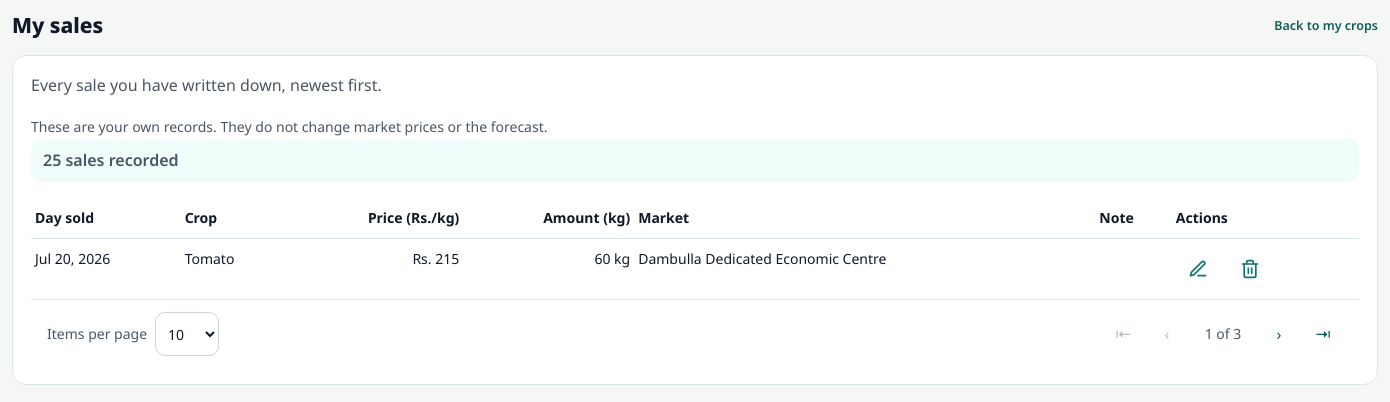
Test: the sales book — paging › never lets a slow FIRST page overwrite the second one the farmer already asked for
expect the text "Tomato" is shown: met, box [181,239,284,299]
Click the button named "Next page". click: (1279, 334)
box: [1259,312,1299,356]
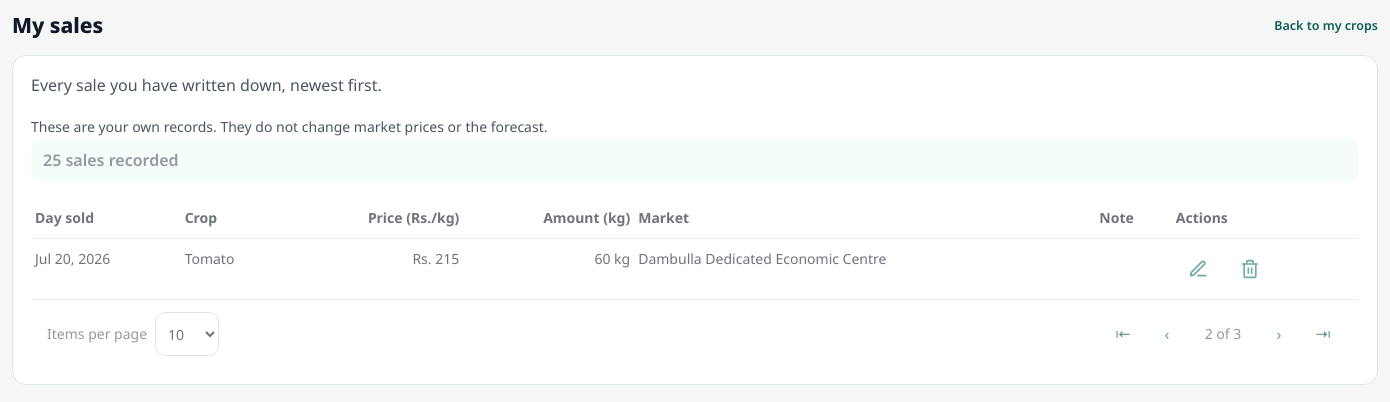
Click the button named "Next page". click: (1279, 334)
box: [1259,312,1299,356]
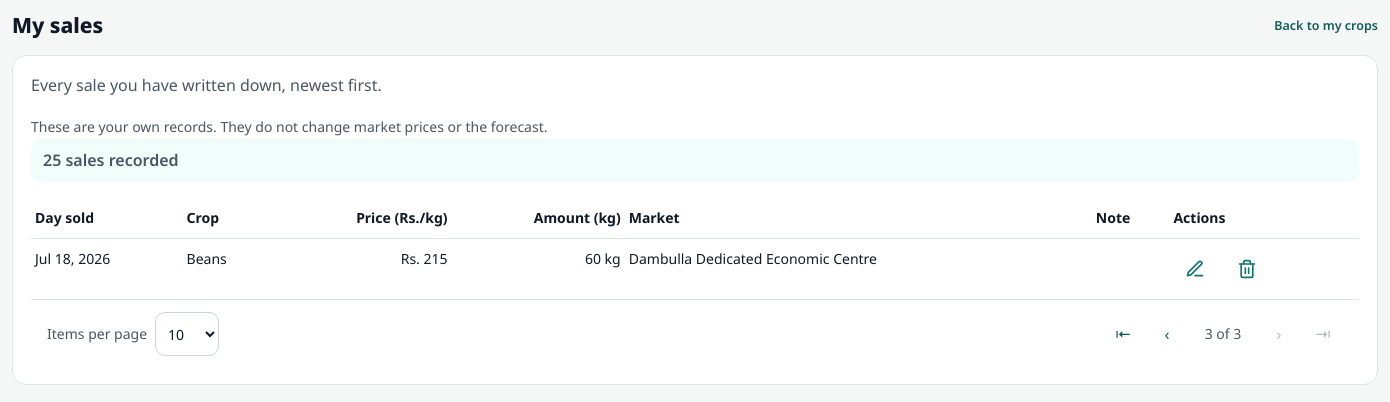
expect the text "Beans" is shown: met, box [183,239,270,299]
